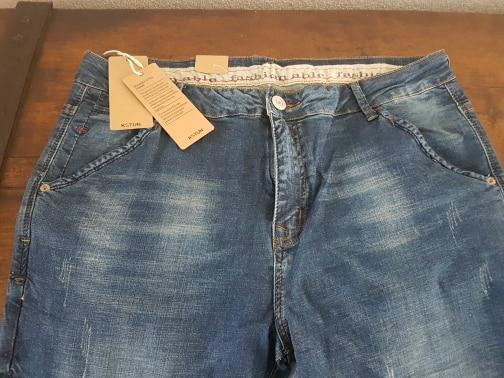jeans: (34, 47, 461, 378)
